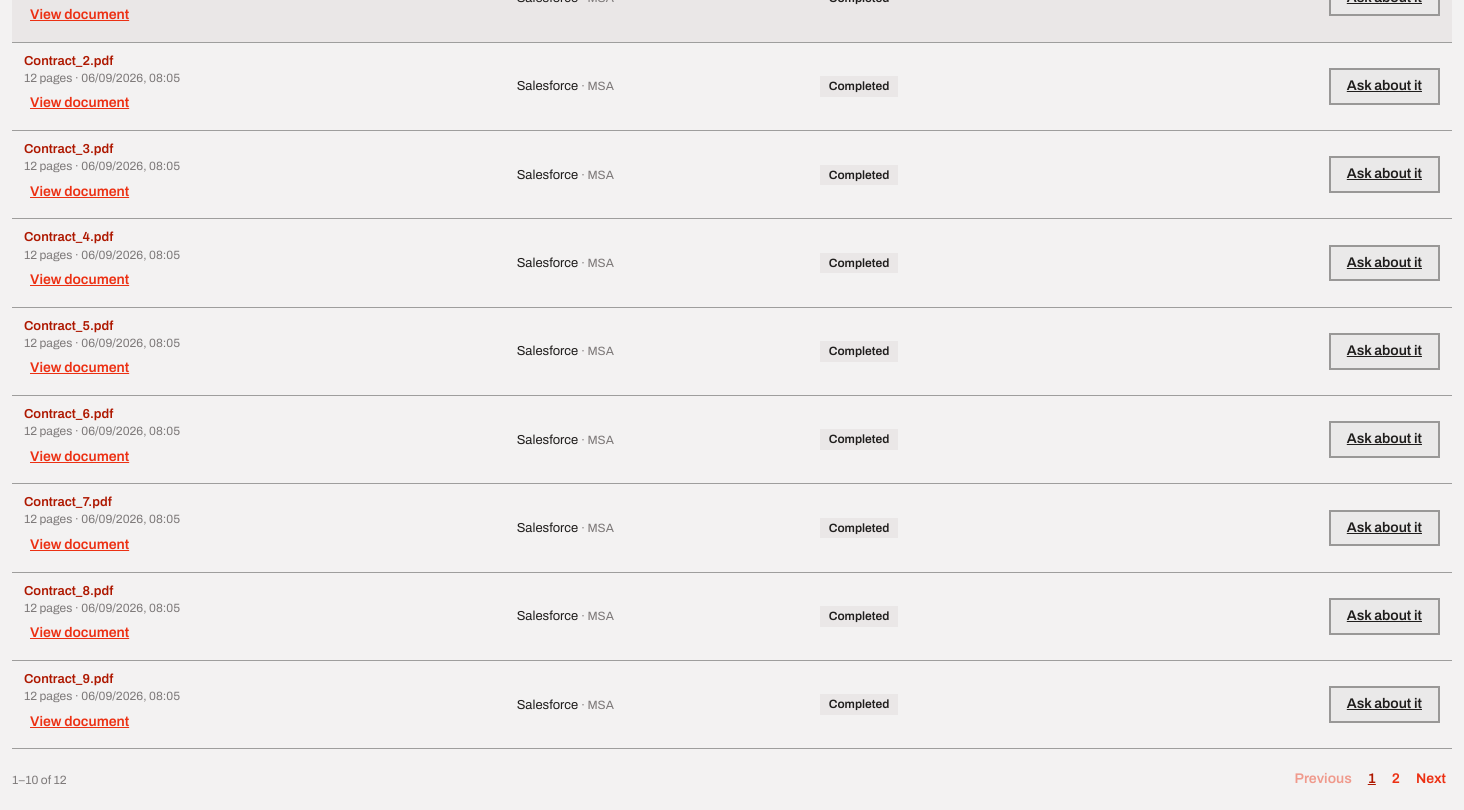
Test: DocumentStatusTable › defaults to 10 rows and pages the rest
The width and height of the screenshot is (1464, 810).
(page scrolled)
Expected: the link "Contract_10.pdf" is not shown
Expected: the navigation bar named "Document pages" is shown, x1=12 y1=749 x2=1452 y2=809
Click the button "Next" at (1431, 780), box x1=1410 y1=761 x2=1452 y2=798
(page scrolled)
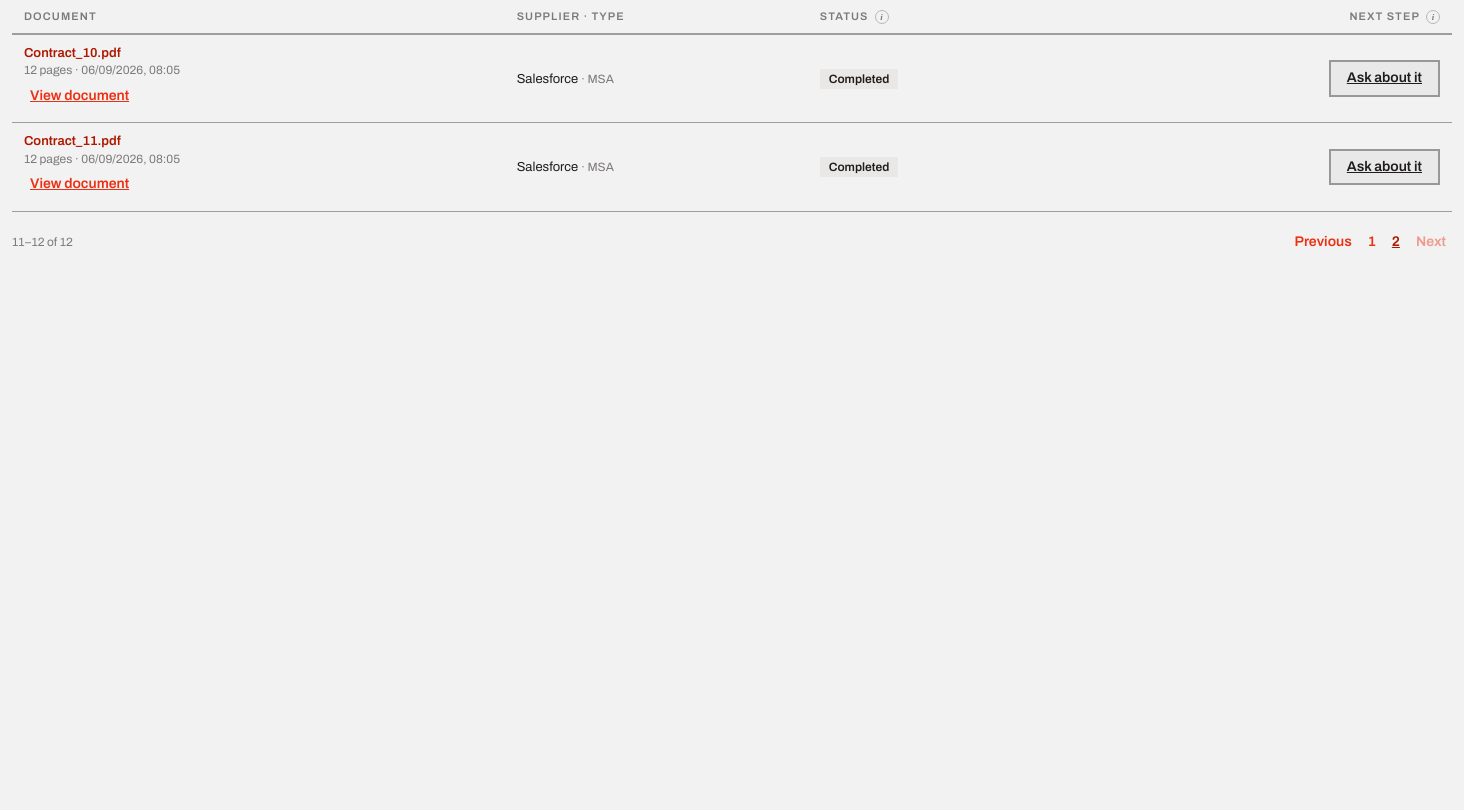
Expected: the link "Contract_10.pdf" is shown, x1=24 y1=46 x2=121 y2=60
Expected: the link "Contract_11.pdf" is shown, x1=24 y1=134 x2=121 y2=148
Expected: the text "11–12 of 12" is shown, x1=12 y1=235 x2=73 y2=249
